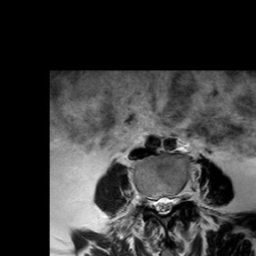CCS_normal: (160, 185, 166, 222)
LFS_normal: (174, 182, 183, 212)
LLS_normal: (166, 186, 174, 218)
RFS_normal: (144, 184, 152, 217)
RLS_normal: (152, 187, 160, 217)
